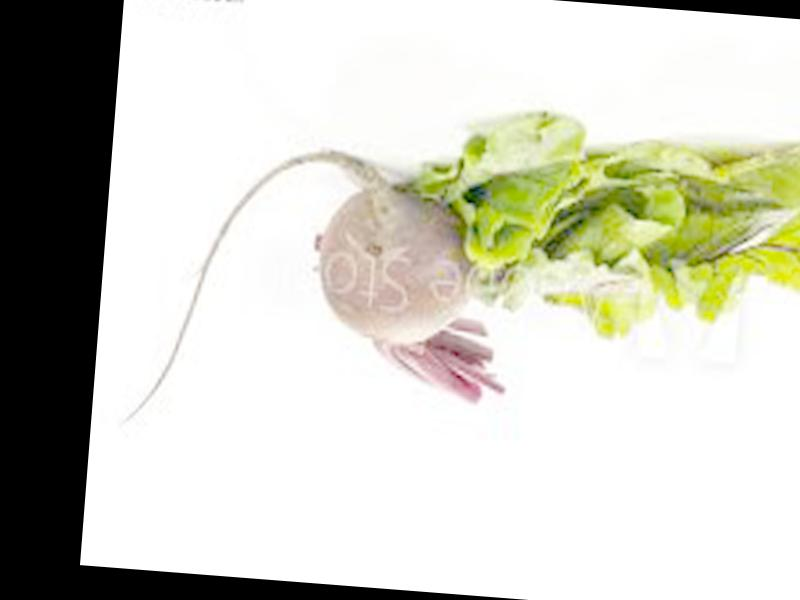Beet: (116, 135, 527, 456)
